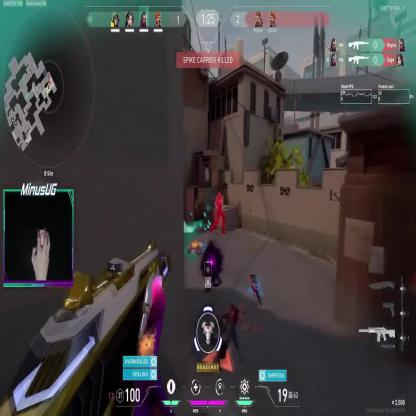enemy: (210, 190, 226, 234)
enemy_head: (218, 191, 222, 198)
